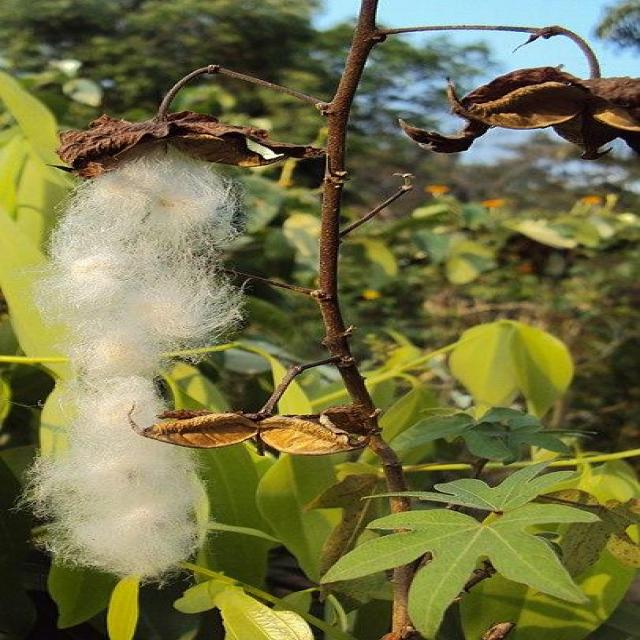Early_blight: (17, 105, 327, 588)
